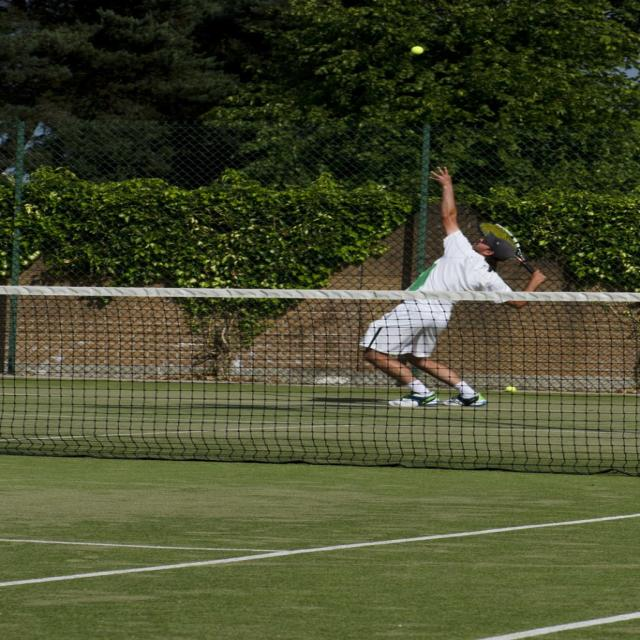Tennis ball: (411, 46, 424, 55)
